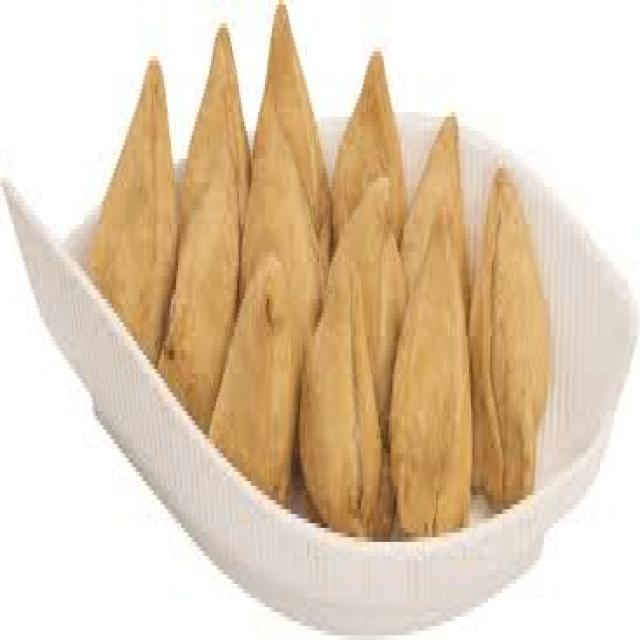SAMOSA: (300, 178, 405, 528), (159, 28, 248, 430), (209, 220, 316, 500), (89, 61, 176, 360), (471, 168, 549, 500), (391, 215, 471, 528), (246, 117, 317, 453), (253, 9, 317, 215), (333, 51, 403, 238), (403, 121, 462, 294)
